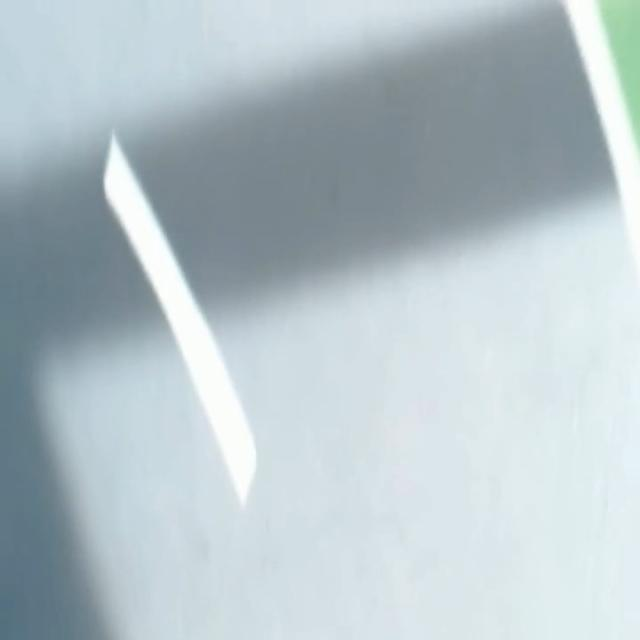center: (103, 132, 256, 505)
right: (562, 0, 639, 275)
